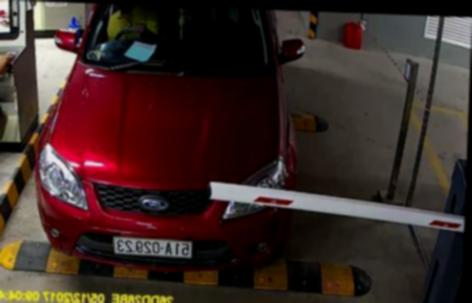License_Plate: (105, 228, 199, 262)
